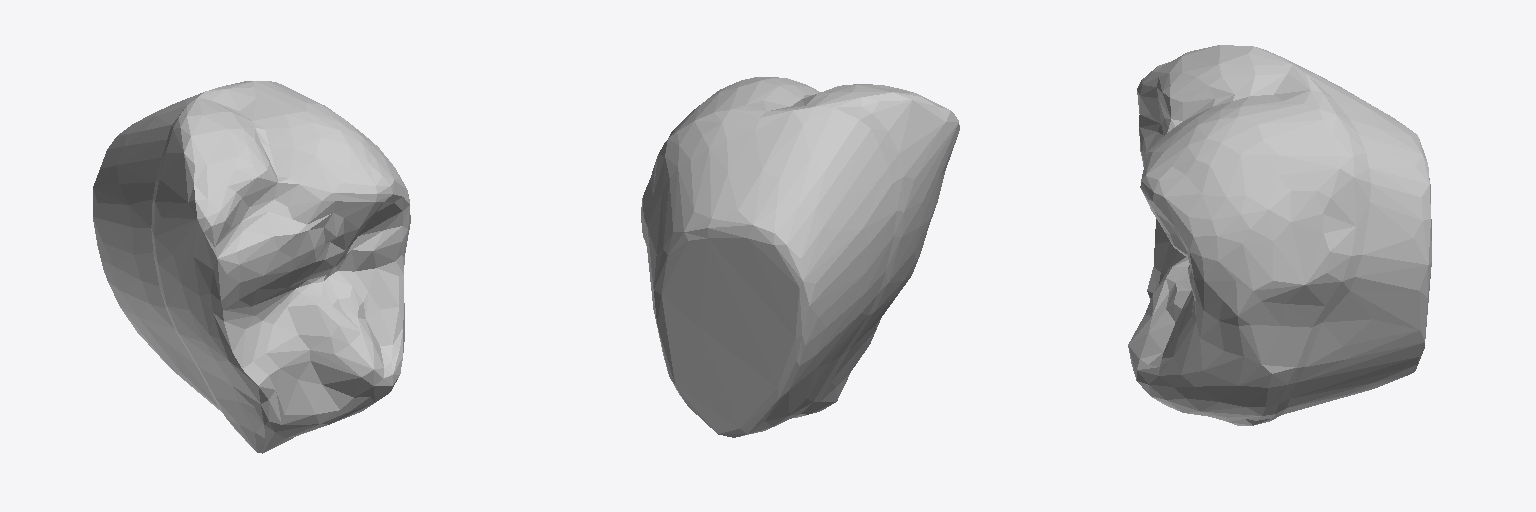
The model's file is local_t37_7780_si.OBJ.
The picture shows the model from 3 angles: view 1: azimuth 30°, elevation 25°; view 2: azimuth 150°, elevation 25°; view 3: azimuth 270°, elevation 25°; orthographic projection.
Parts seen in each view (by area): view 1: Group20626; view 2: Group20626; view 3: Group20626.
Boxes of the visible parts, x1=… form: Group20626: x1=93, y1=81, x2=410, y2=453; Group20626: x1=641, y1=77, x2=959, y2=437; Group20626: x1=1128, y1=45, x2=1431, y2=425.
Bounding box in the file's own units: 8.67 × 11.24 × 9.13.